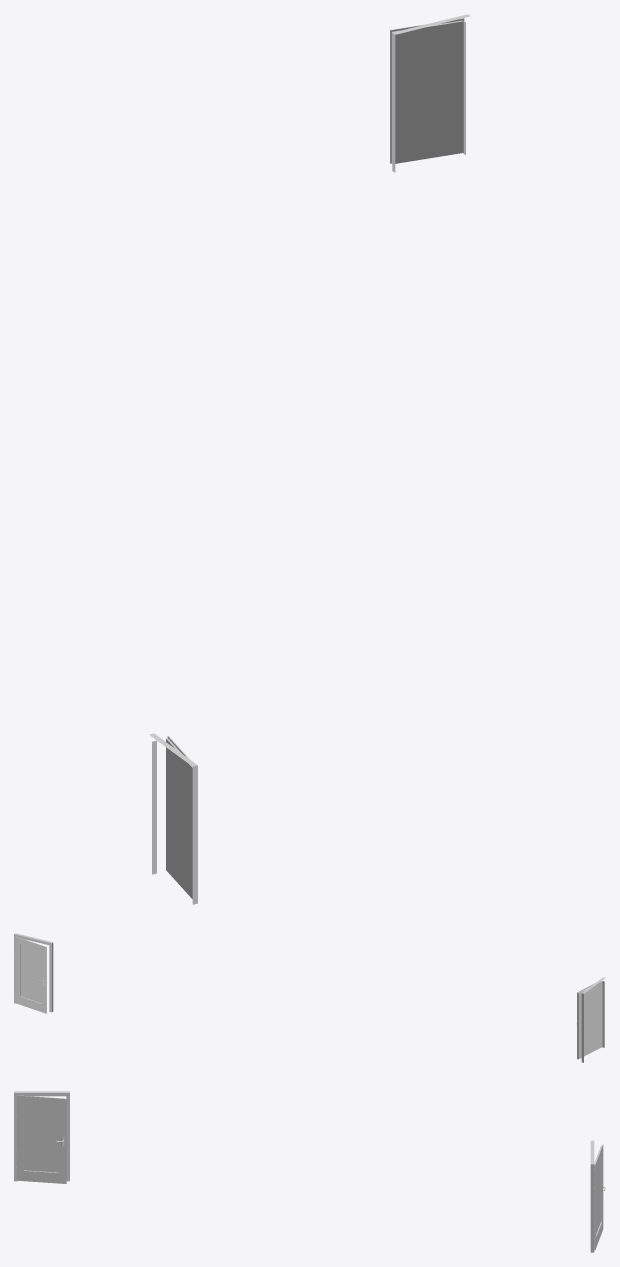
Rendered from Door-transformed.glb.
3 renders of one model, top to bottom at view 1: azimuth 30°, elevation 25°; view 2: azimuth 150°, elevation 25°; view 3: azimuth 270°, elevation 25°, orthographic. The views are drawn at different scales.
Visible parts, largest first — view 1: Door.001; view 2: Door.001; view 3: Door.001.
Part boxes in pixels (left/top/right/bottom): Door.001: left=149, top=14, right=470, bottom=904; Door.001: left=14, top=933, right=605, bottom=1062; Door.001: left=14, top=1091, right=605, bottom=1252.
Bounding box in the file's own units: 12.51 × 6.23 × 13.76.
Materials: 1 (1 with a texture image).
